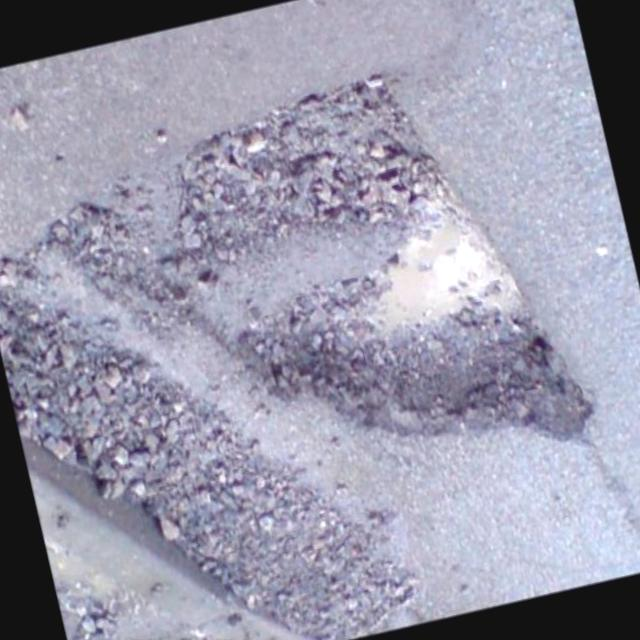pothole: (144, 40, 602, 527)
